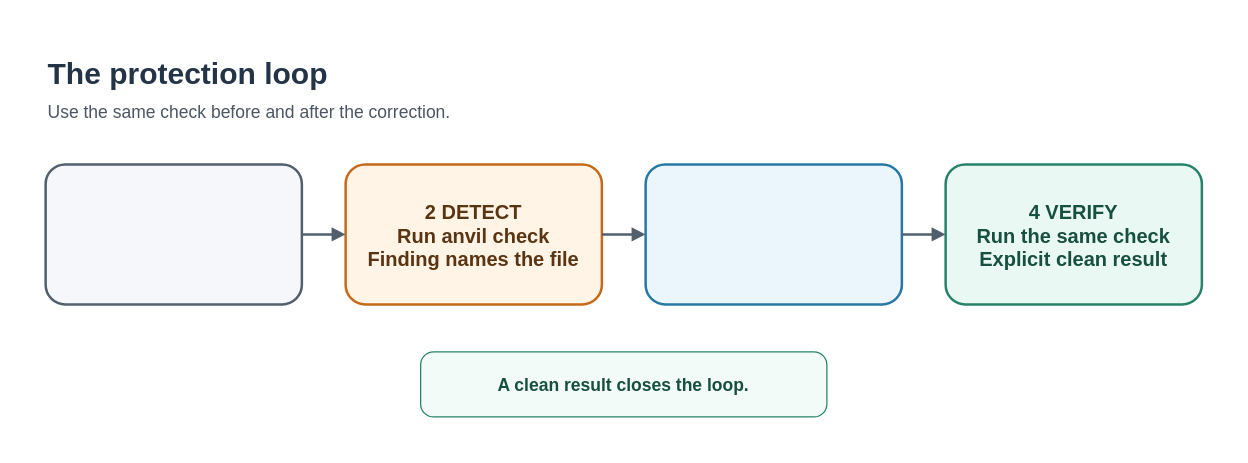
The diagram is 1248 pixels wide and 463 high, and some of its shapes have lost their labels. The shapes that lost their labels are listed below. From the top down, each one's centre as x and y in pixels, then its label:
(x=173, y=233): 1 CREATE Add the deliberate finding
(x=773, y=233): 3 FIX Make the safe correction
